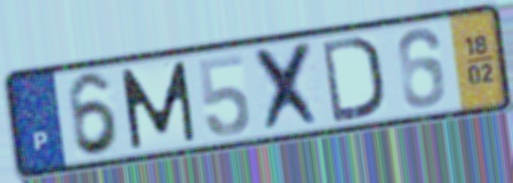5: (193, 50, 252, 139)
6: (66, 69, 121, 159), (395, 26, 449, 111)
D: (318, 33, 386, 125)
M: (117, 58, 200, 153)
X: (250, 38, 328, 136)
